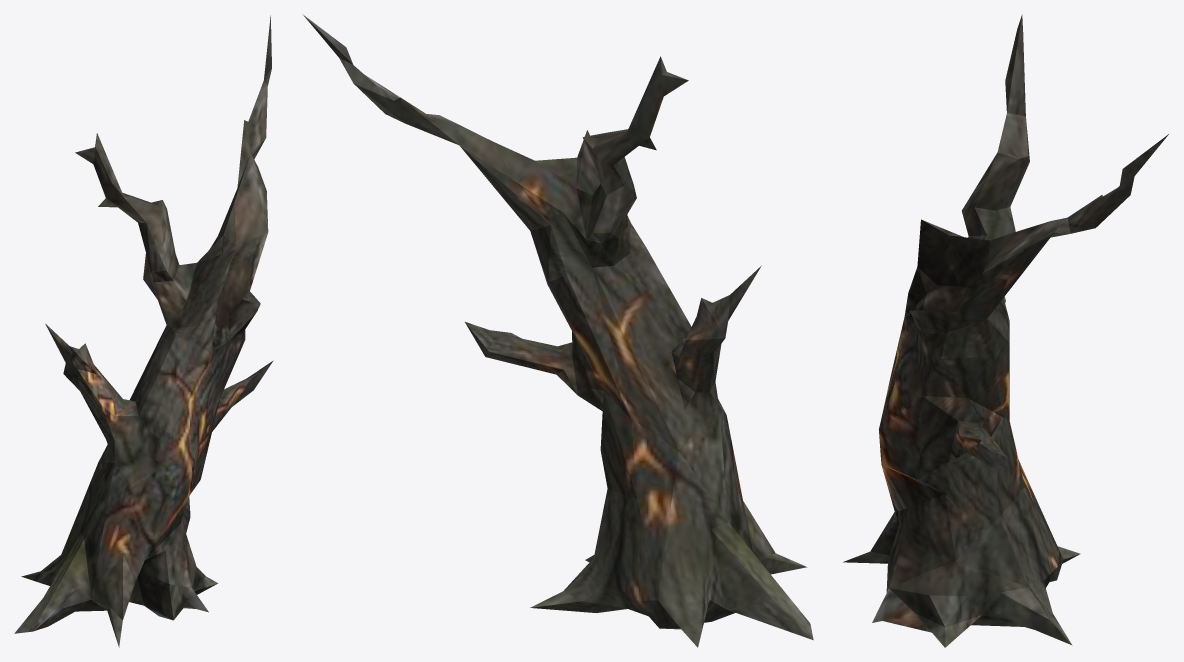
File: world-cursedtree-trunk.glb
3 views of the same model, side by side, from view 1: azimuth 30°, elevation 25°; view 2: azimuth 150°, elevation 25°; view 3: azimuth 270°, elevation 25° (orthographic). The views are drawn at different scales.
Parts seen in each view (by area): view 1: output_unwrapped; view 2: output_unwrapped; view 3: output_unwrapped.
Part boxes in pixels (x1,y1,x2,y2): output_unwrapped: (14,15,273,647); output_unwrapped: (302,14,813,647); output_unwrapped: (843,14,1168,647).
Size of the model in its own units: 2.95 by 4.05 by 1.96.
1 material, 1 textured.
